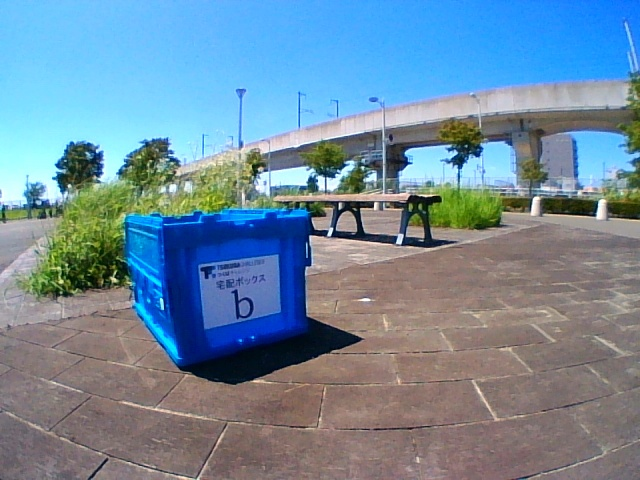blue_box: (149, 215, 300, 332)
tag_b: (218, 275, 258, 319)
